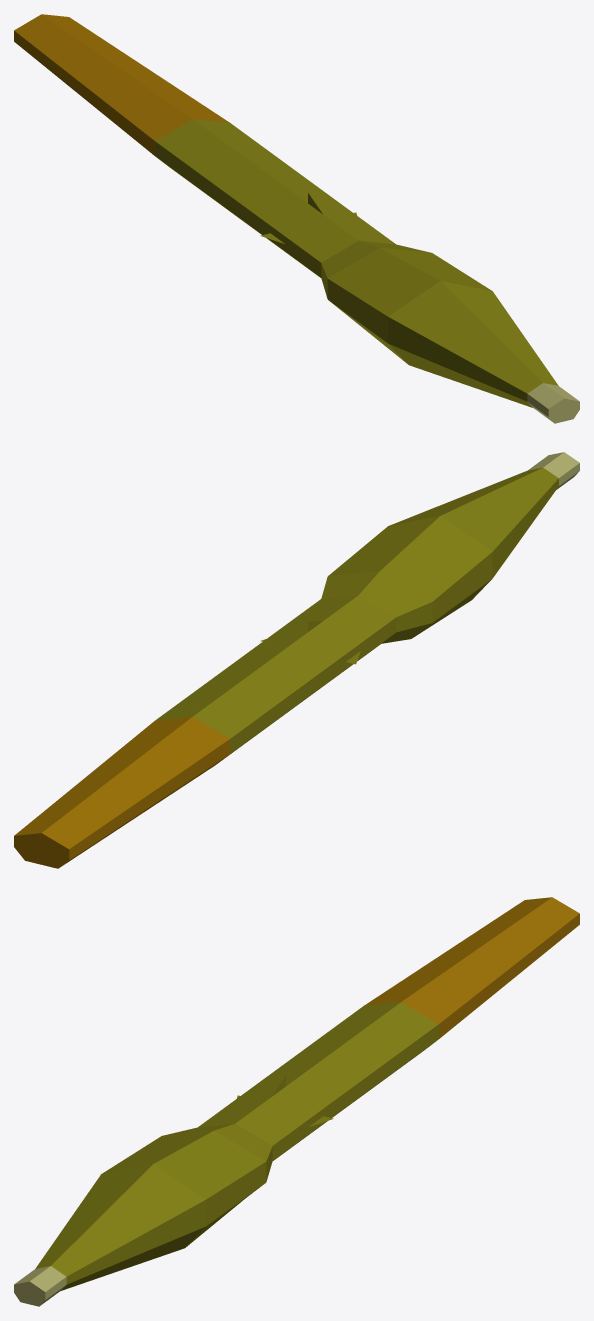
File: RocketProjectile.fbx
3 renders of one model, top to bottom at view 1: azimuth 30°, elevation 25°; view 2: azimuth 150°, elevation 25°; view 3: azimuth 330°, elevation 25°, orthographic.
Parts seen in each view (by area): view 1: Rocket; view 2: Rocket; view 3: Rocket.
Part boxes in pixels (box(x1,y1,x2,y2)): Rocket: box(14, 14, 579, 423); Rocket: box(14, 452, 579, 868); Rocket: box(14, 897, 579, 1306).
Size of the model in its own units: 200 by 1730 by 140.
